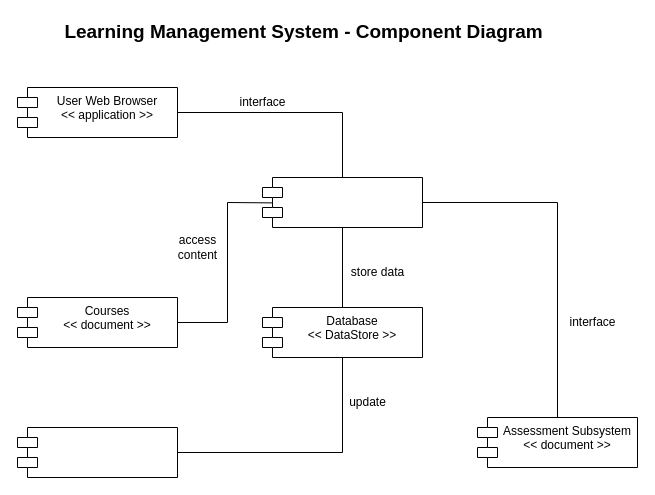
Some shapes in this 655 by 495 pixel diagram are drawn without their labels. The centre of each missing label's shape, as x and y in pixels:
Admin Web Browser << application >>: (x=97, y=452)
Website << document >>: (x=342, y=202)
